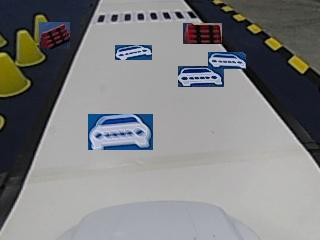crosswalk: (95, 12, 196, 22)
